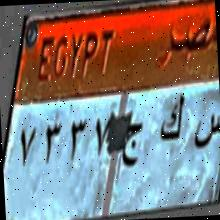3: (63, 115, 90, 168), (41, 114, 64, 162)
7: (16, 118, 40, 172), (89, 112, 116, 158)
jeem: (117, 116, 146, 174)
kaaf: (153, 85, 189, 152)
seen: (191, 105, 220, 151)
